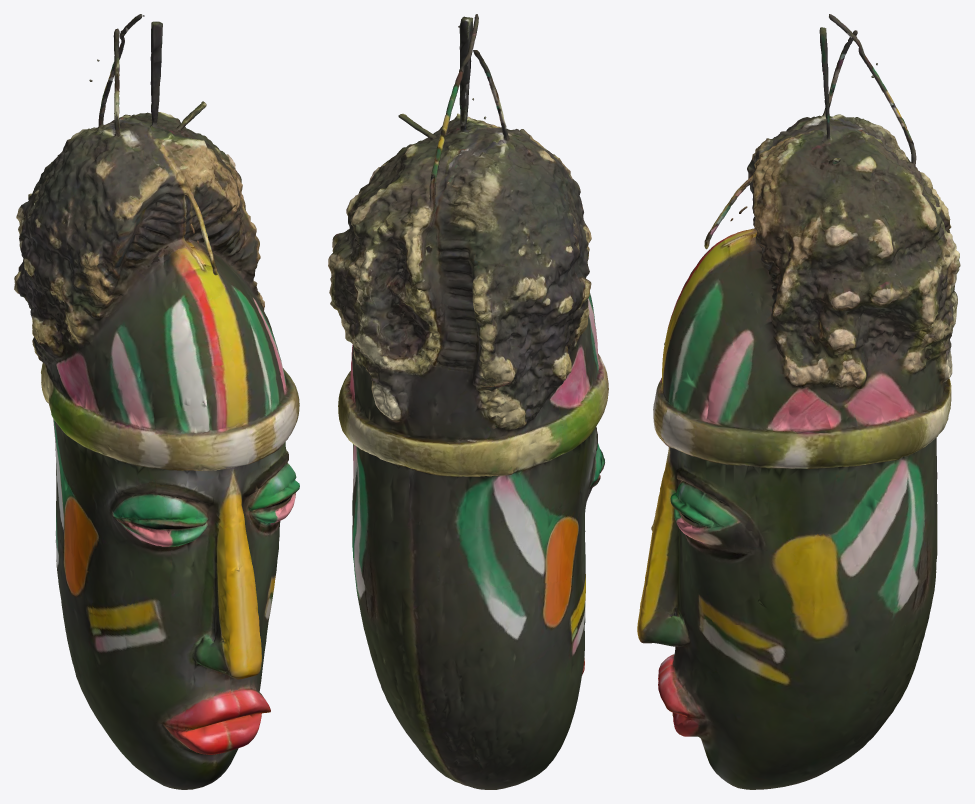
The model's file is Carved Wooden Masks.glb.
The picture shows the model from 3 angles, left to right: view 1: azimuth 30°, elevation 25°; view 2: azimuth 150°, elevation 25°; view 3: azimuth 270°, elevation 25°; orthographic projection. The views are drawn at different scales.
Bounding box in the file's own units: 0.5883 × 1.92 × 0.735.
Materials: 1 (1 with a texture image).
